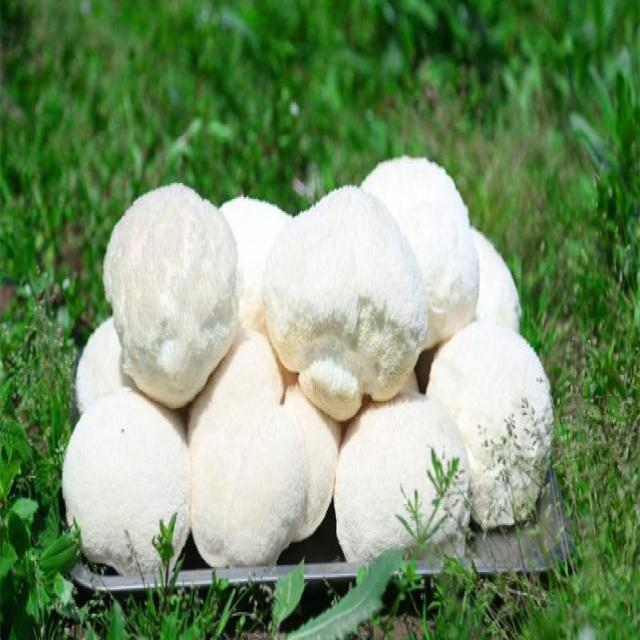Agaricus bisporus: (266, 183, 424, 412), (108, 185, 235, 394), (330, 404, 472, 581), (64, 394, 190, 564)
